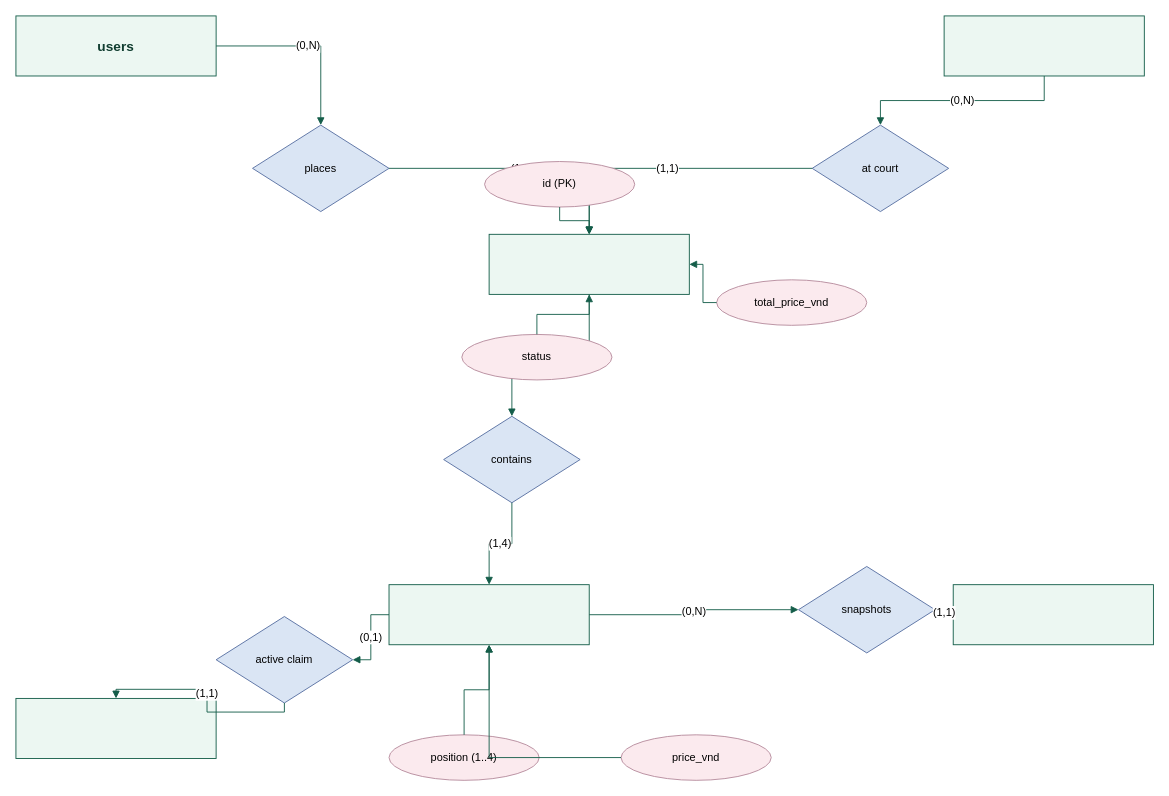
This 1169x796 diagram has some shape labels left out. Each missing label, with the centre of its shape:
"booking_slots" belongs at (488,614).
"bookings" belongs at (588,263).
"courts" belongs at (1043,45).
"slot_claims" belongs at (115,728).
"slots" belongs at (1052,614).
